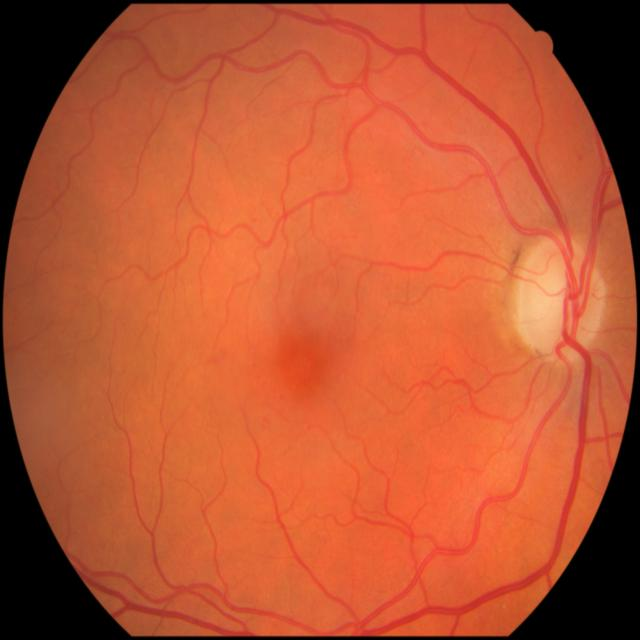OD: (518, 238, 606, 359)
